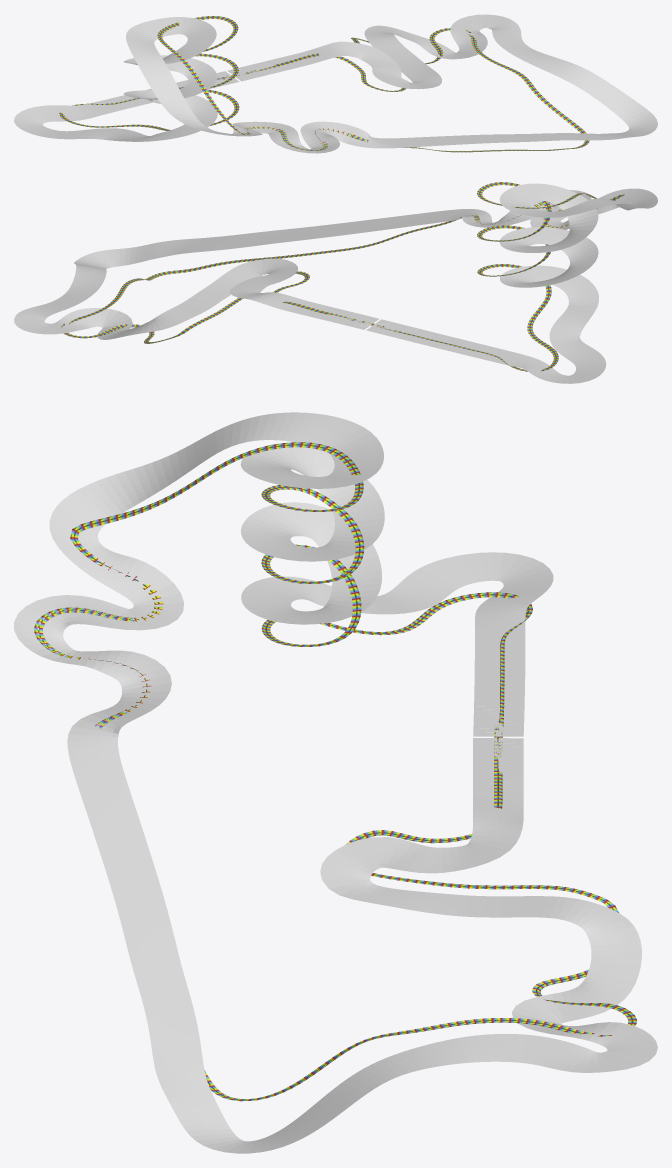
File: FinalsTrack_bck.fbx
The picture shows the model from 3 angles, top to bottom: view 1: azimuth 30°, elevation 25°; view 2: azimuth 150°, elevation 25°; view 3: azimuth 270°, elevation 25°; orthographic projection. The views are drawn at different scales.
Parts seen in each view (by area): view 1: Road, Road.001; view 2: Road, Road.001; view 3: Road, Road.001.
Boxes of the visible parts, x1,y1,x2,y2 form: Road: [14, 14, 657, 153]; Road.001: [59, 16, 589, 152]; Road: [14, 183, 657, 383]; Road.001: [61, 182, 624, 371]; Road: [14, 412, 657, 1153]; Road.001: [34, 442, 636, 1101].
Size of the model in its own units: 510638 by 162509 by 293032.
